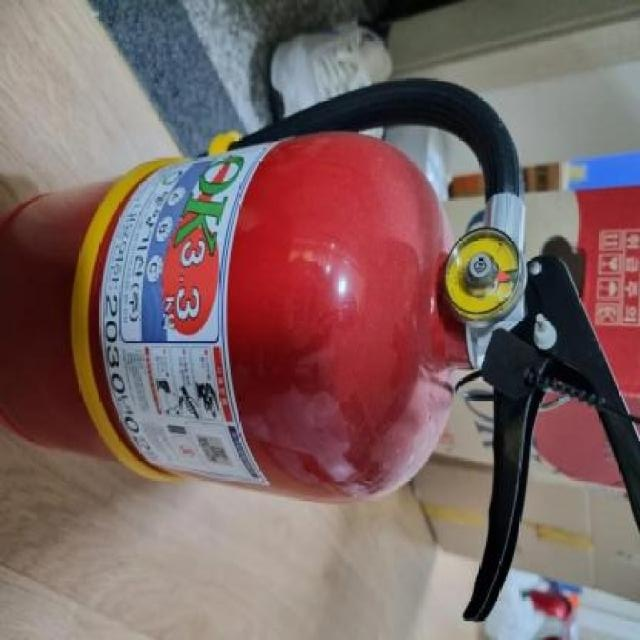fire extinguisher: (0, 80, 640, 623)
